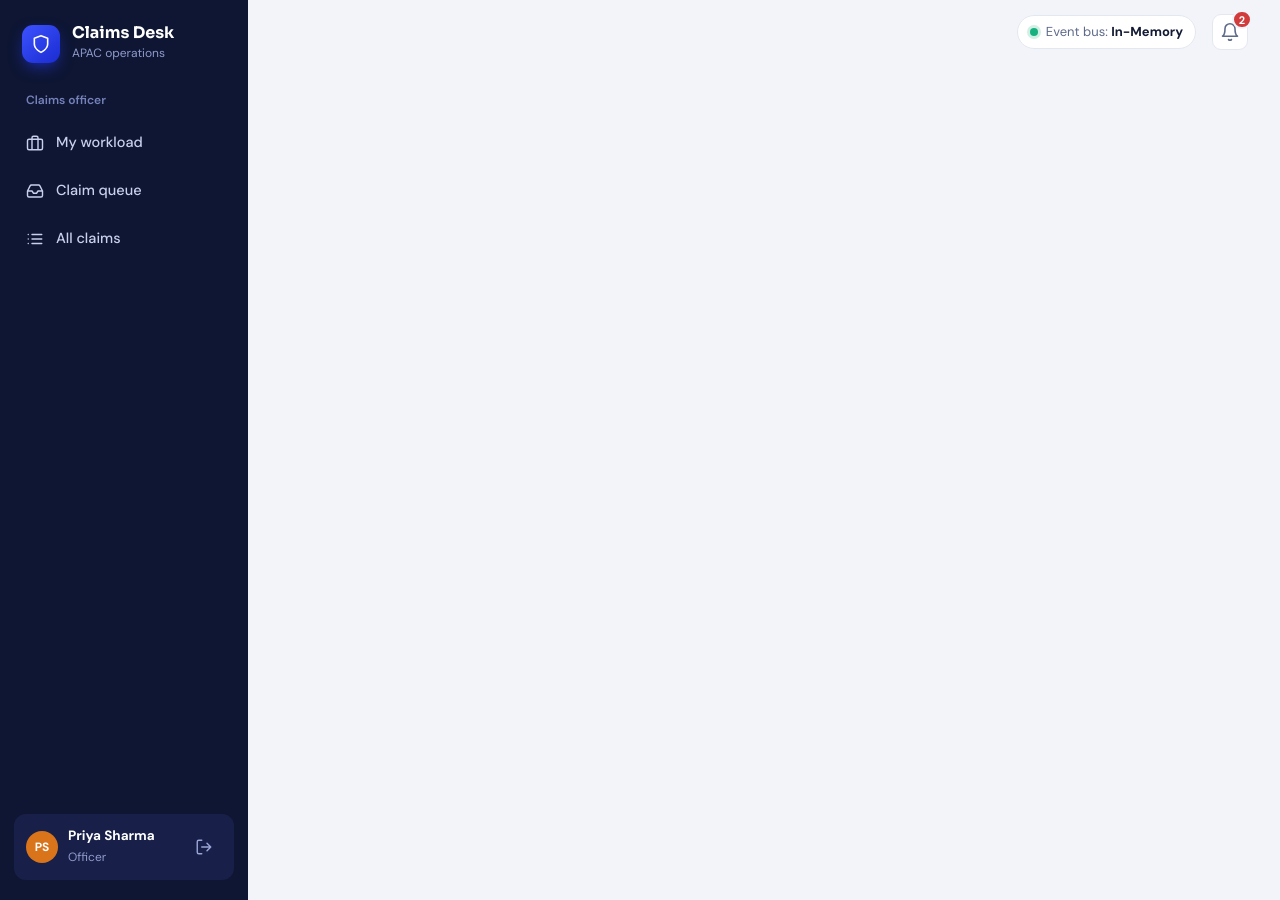
ShellComponent › notification bell › opens a panel listing notifications, unread first-class
Click the button with class "bell". click: (1230, 32)
box: [1212, 14, 1248, 50]
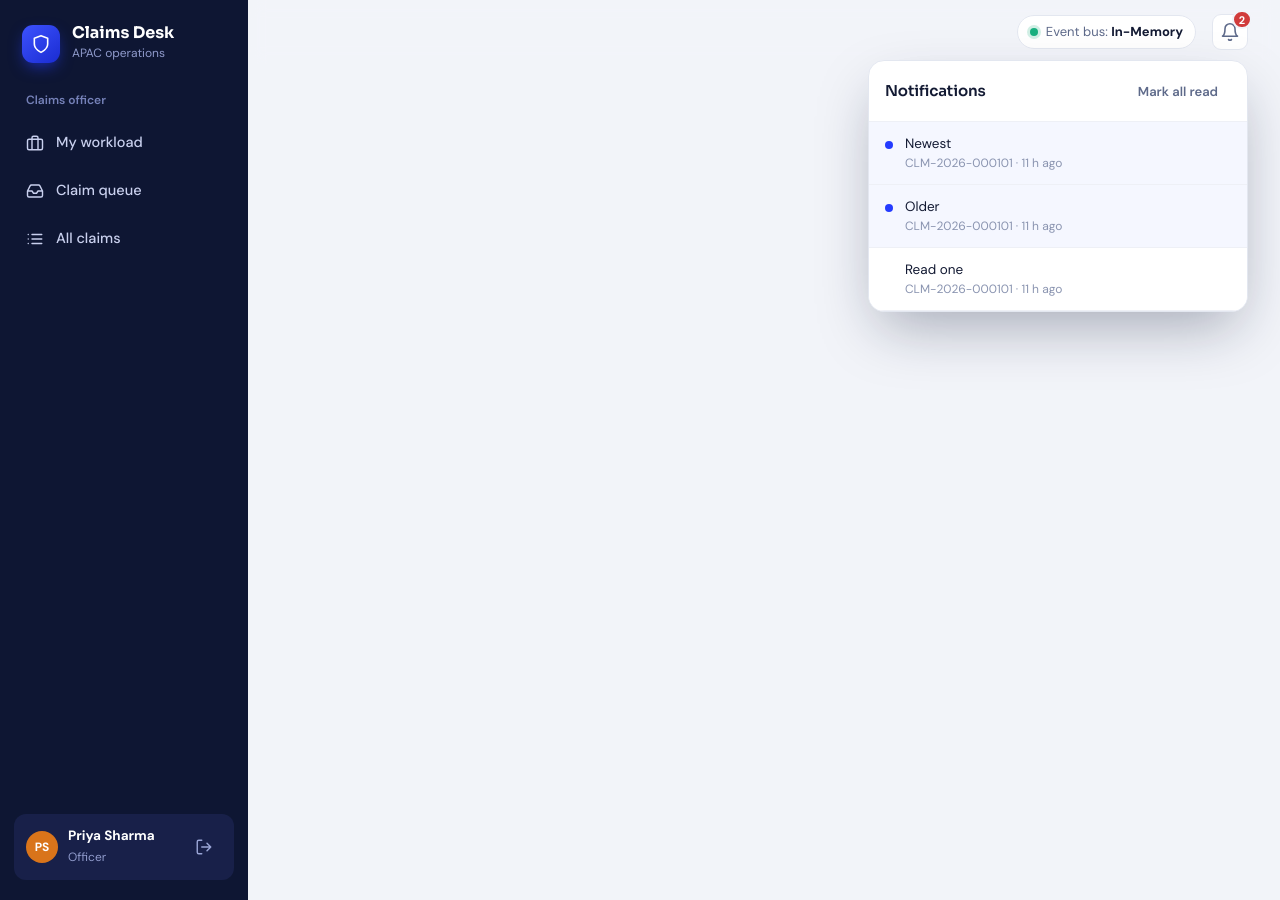
Expected: the number of buttons with class "note" is 3, [869, 122, 1247, 185]; [869, 185, 1247, 248]; [869, 248, 1247, 311]
Expected: the button with class "note" shows "Newest", [869, 122, 1247, 185]
Expected: the button with class "note" shows "CLM-2026-000101", [869, 122, 1247, 185]
